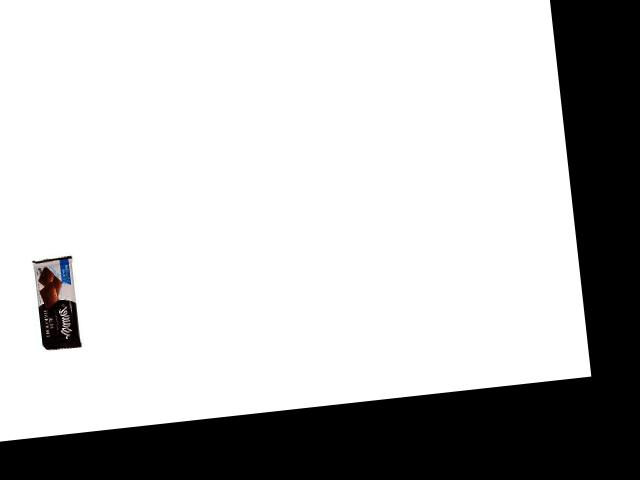chocolate: (30, 255, 83, 350)
